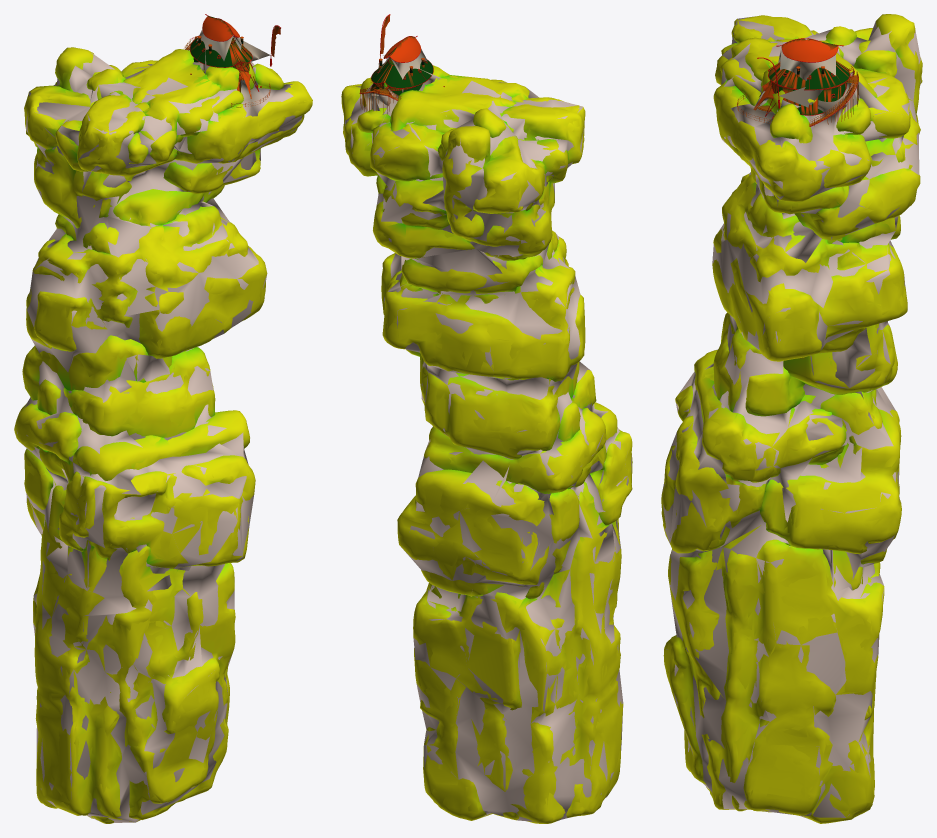
Rendered from WarpStoneA.glb.
3 views of the same model, side by side, from view 1: azimuth 30°, elevation 25°; view 2: azimuth 150°, elevation 25°; view 3: azimuth 270°, elevation 25° (orthographic). The views are drawn at different scales.
Visible parts, largest first — view 1: L0, L2, L1; view 2: L0, L1, L2; view 3: L0, L1, L2.
Part boxes in pixels (x1,y1,x2,y2): L0: (14, 14, 312, 823); L2: (16, 20, 302, 822); L1: (18, 14, 311, 823); L0: (341, 14, 632, 823); L1: (341, 15, 632, 823); L2: (344, 39, 631, 822); L0: (661, 14, 922, 823); L1: (661, 14, 922, 823); L2: (662, 16, 921, 819).
Size of the model in its own units: 80.15 by 217 by 62.09.
